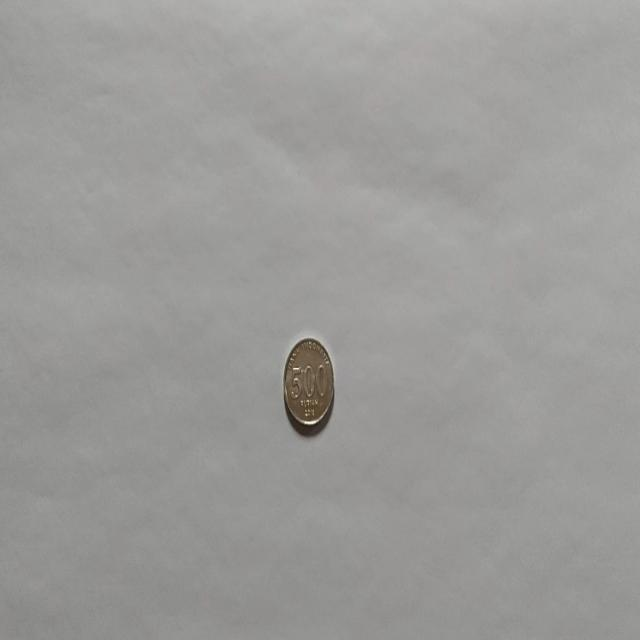lima ratus rupiah: (282, 335, 335, 433)
